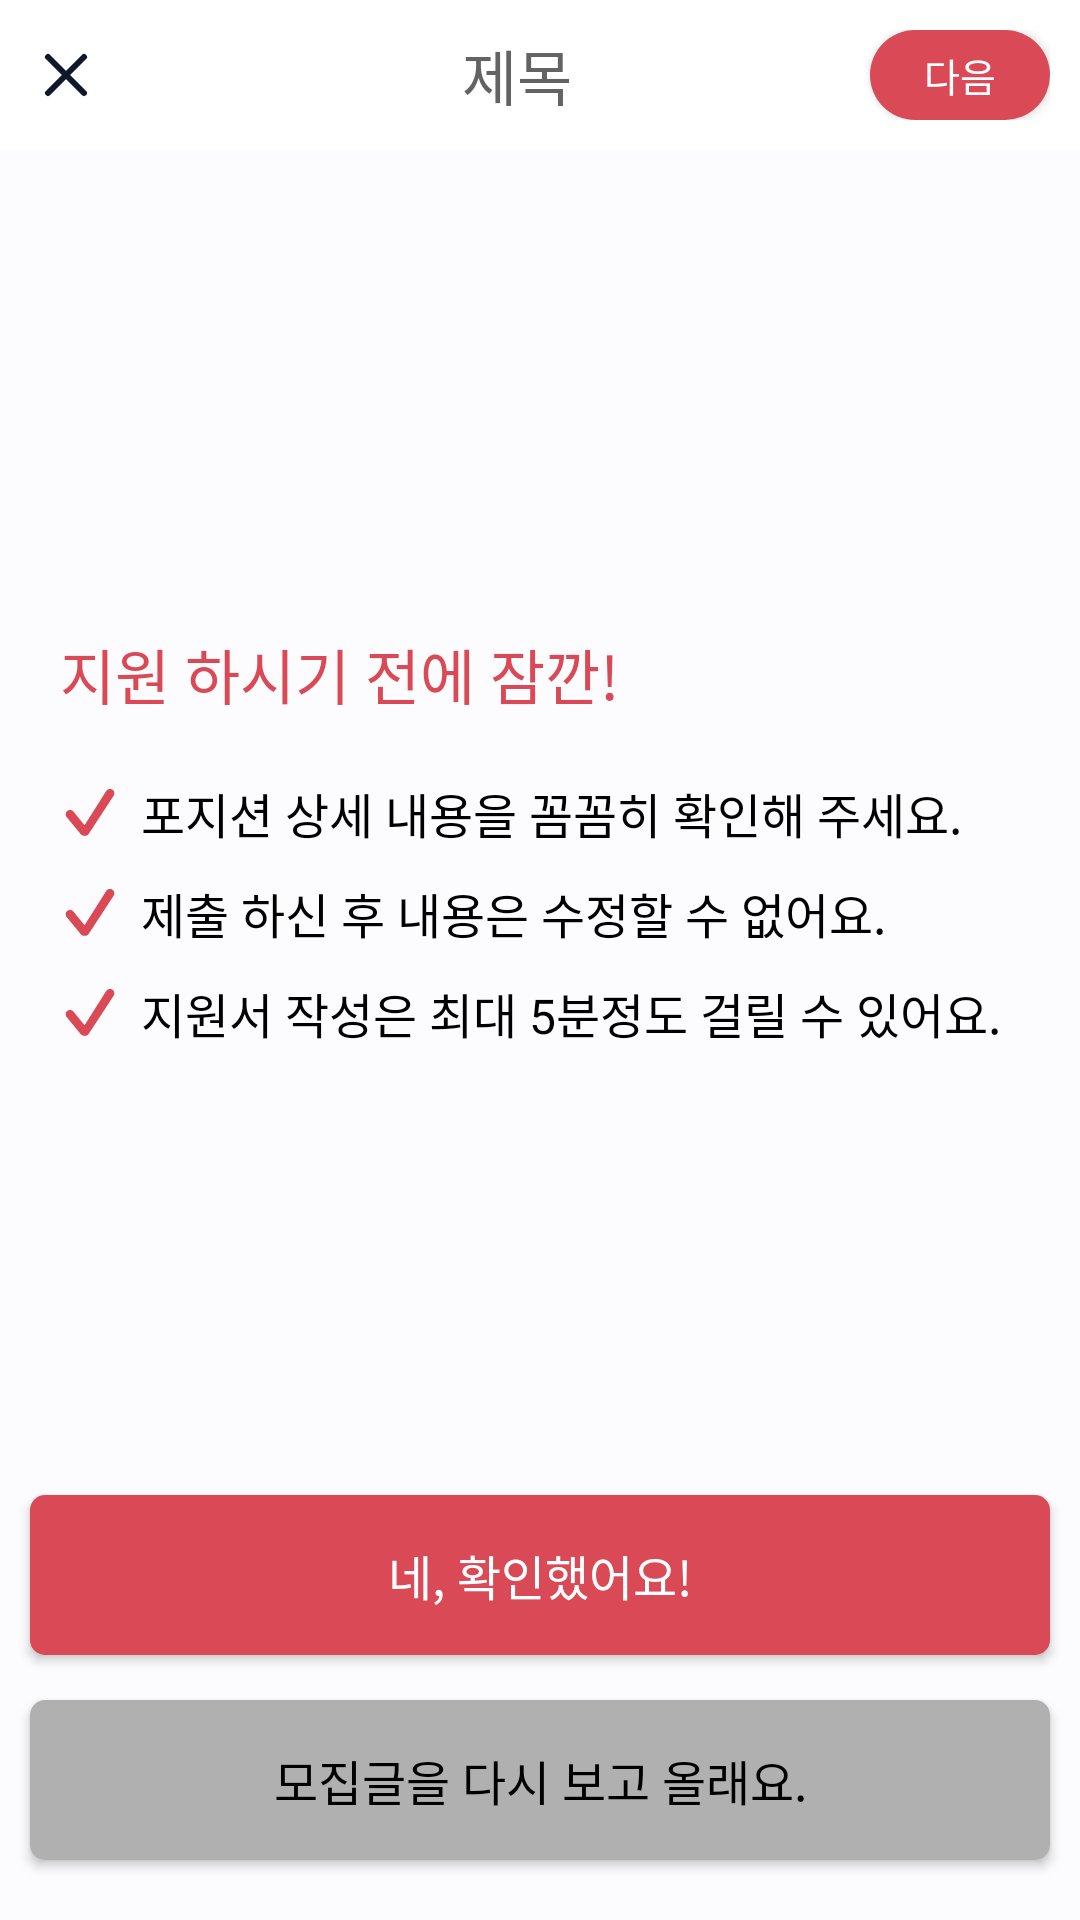

Icon bounding boxes for this 1080x1920 phone screenshot, format box=[x1, y1, x2, y2]:
delete: box=[45, 53, 87, 96]
